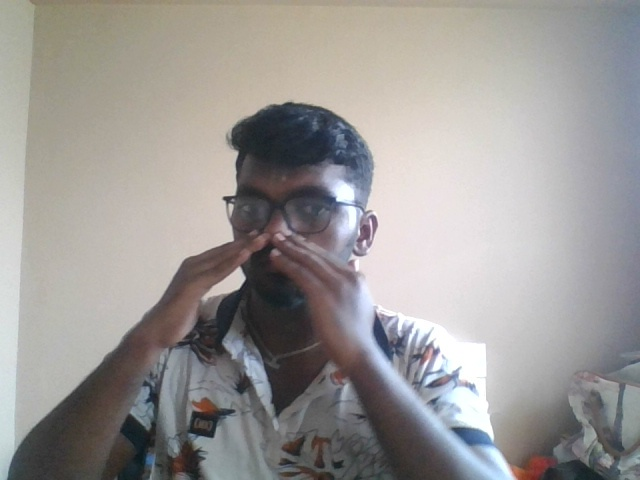Thank you: (131, 224, 376, 374)
